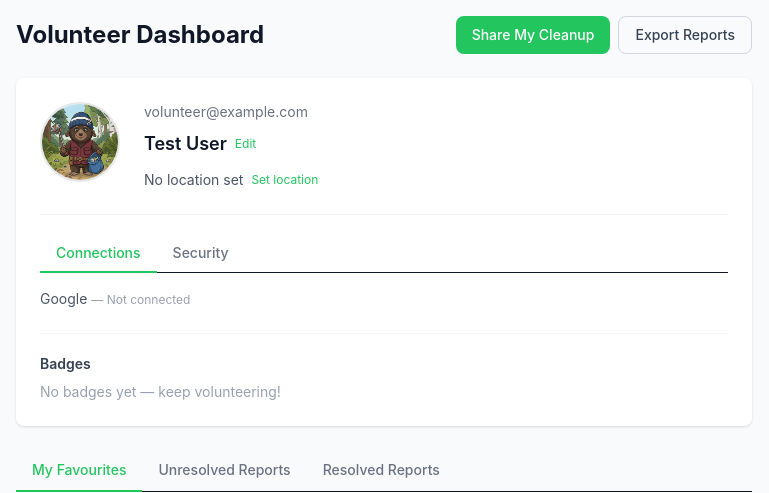
Scenario: VolunteerDashboard › shows error when city update fails
Expected: the text "Test User" is shown, 144,130 -> 227,158
Click the button "Set location": (285, 180) 251,172 -> 318,188
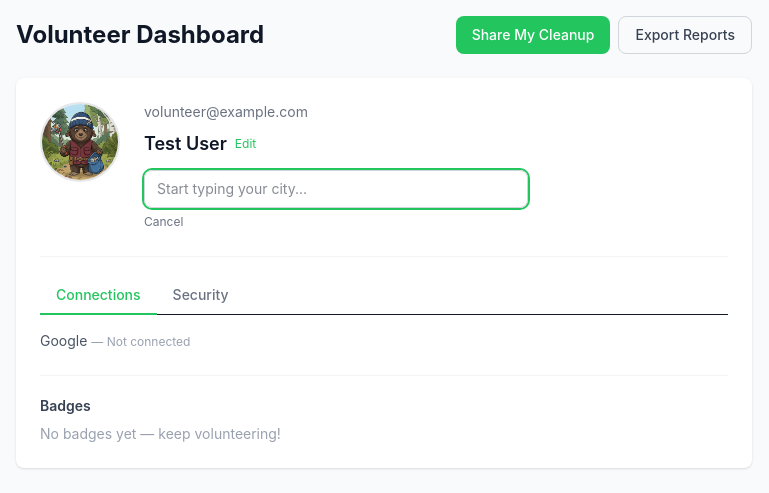
In the field with placeholder "Start typing your city...": (336, 189) 144,170 -> 528,208, type "Lon"
Wait 300 ms
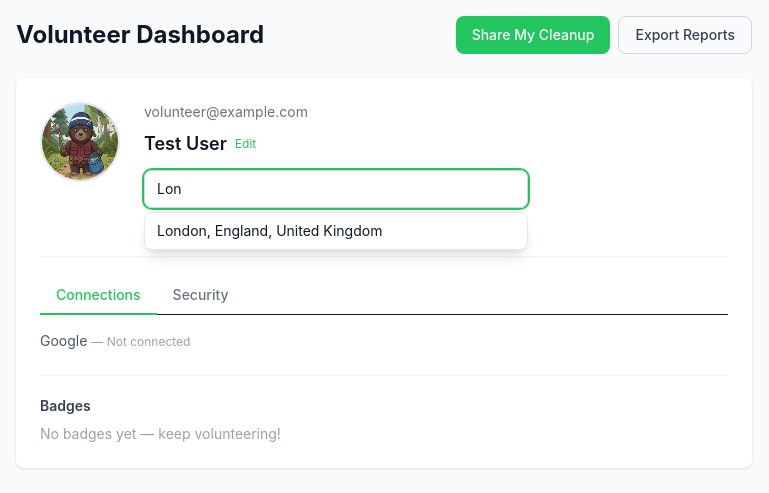
Click the button "London, England, United Kingdom": (336, 231) 145,213 -> 527,249
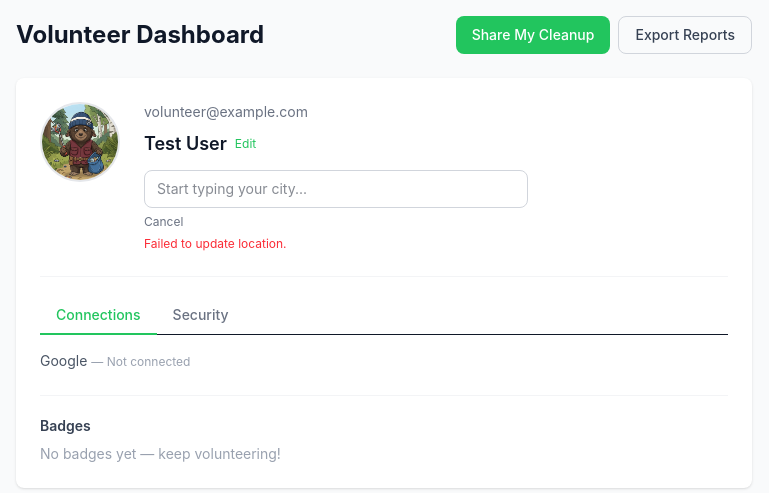
Now the text "Failed to update location." is shown, box 144,236 -> 286,251
